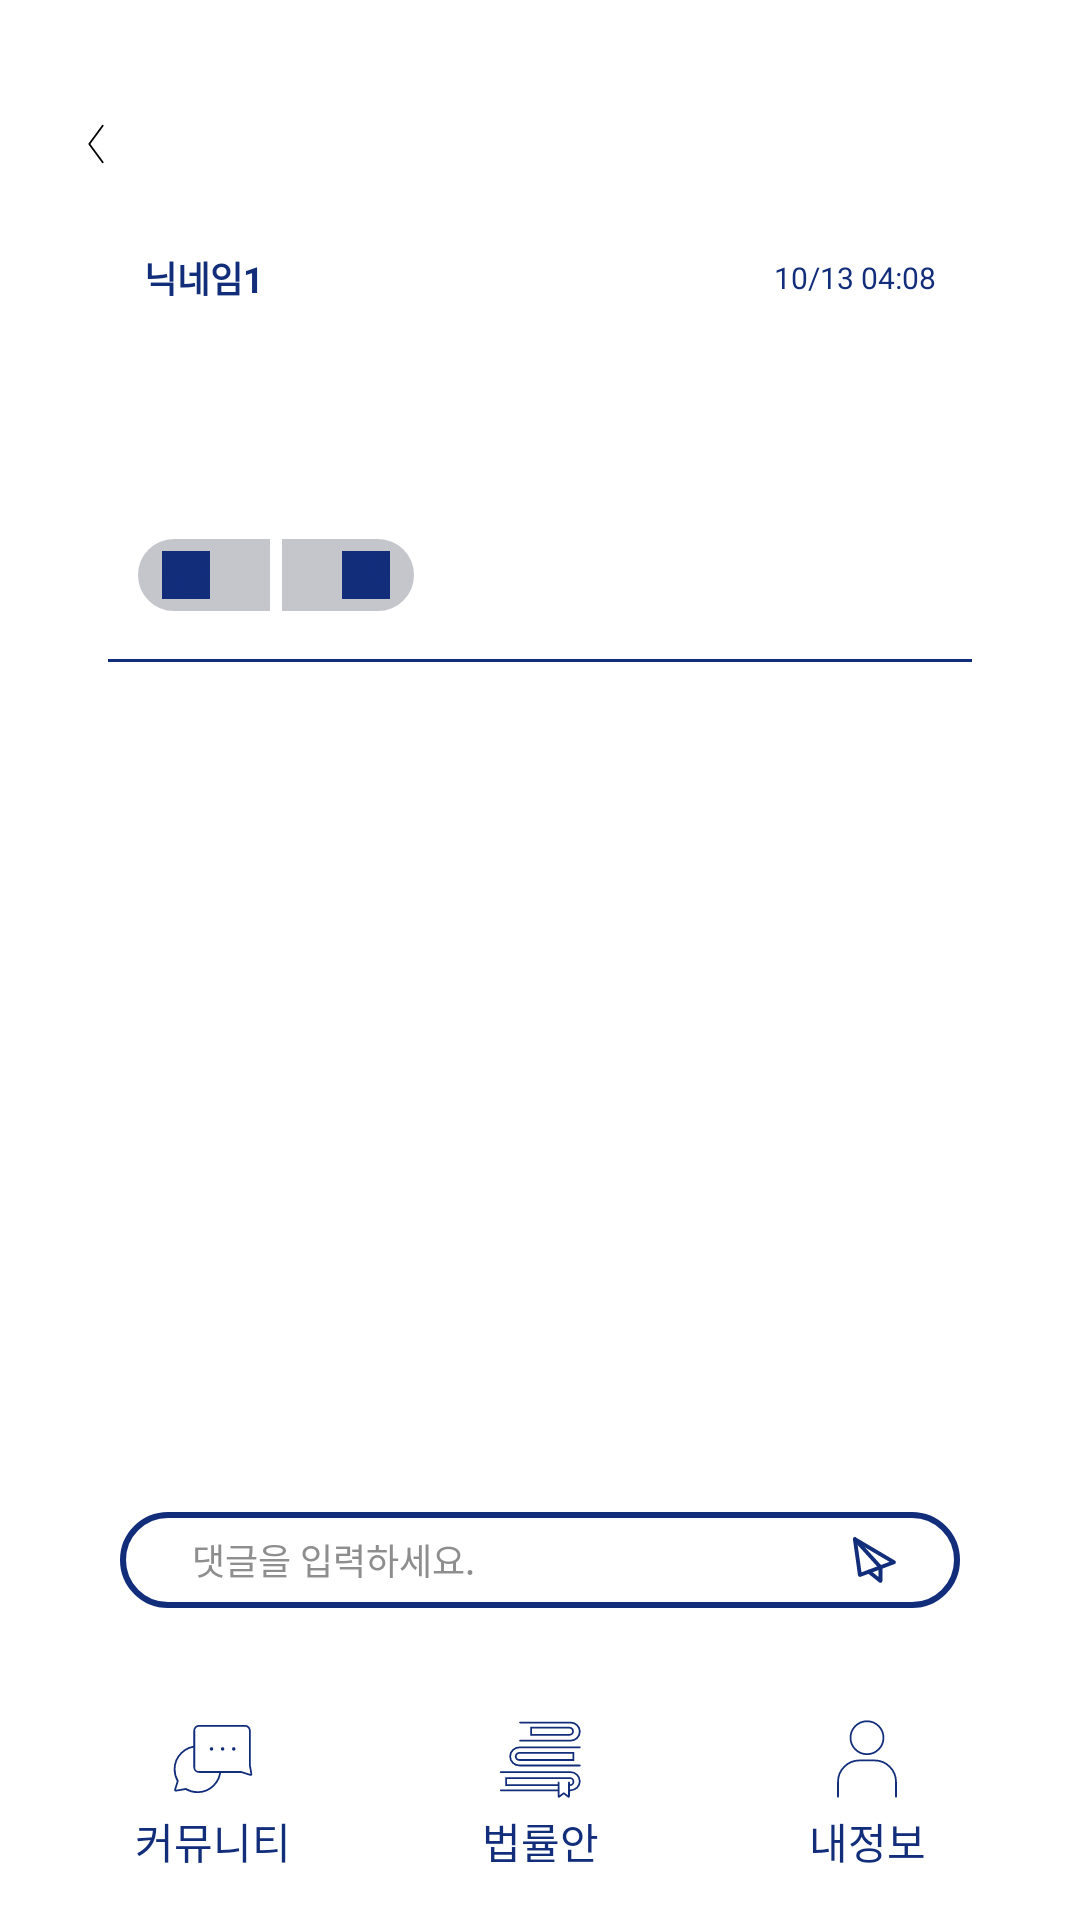

Named icons in this screenshot (1080w x 1920h) and their centers, point (x, y):
back: point (96, 144)
send: point (874, 1560)
